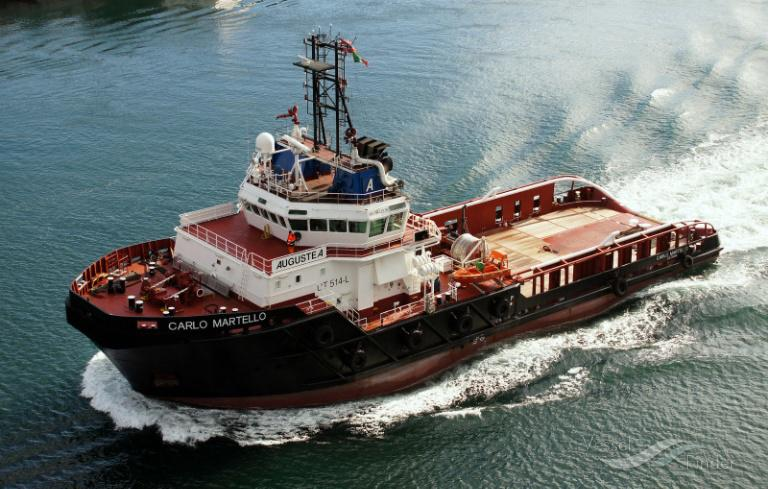OCR: (160, 302, 272, 338), (270, 250, 336, 272)
